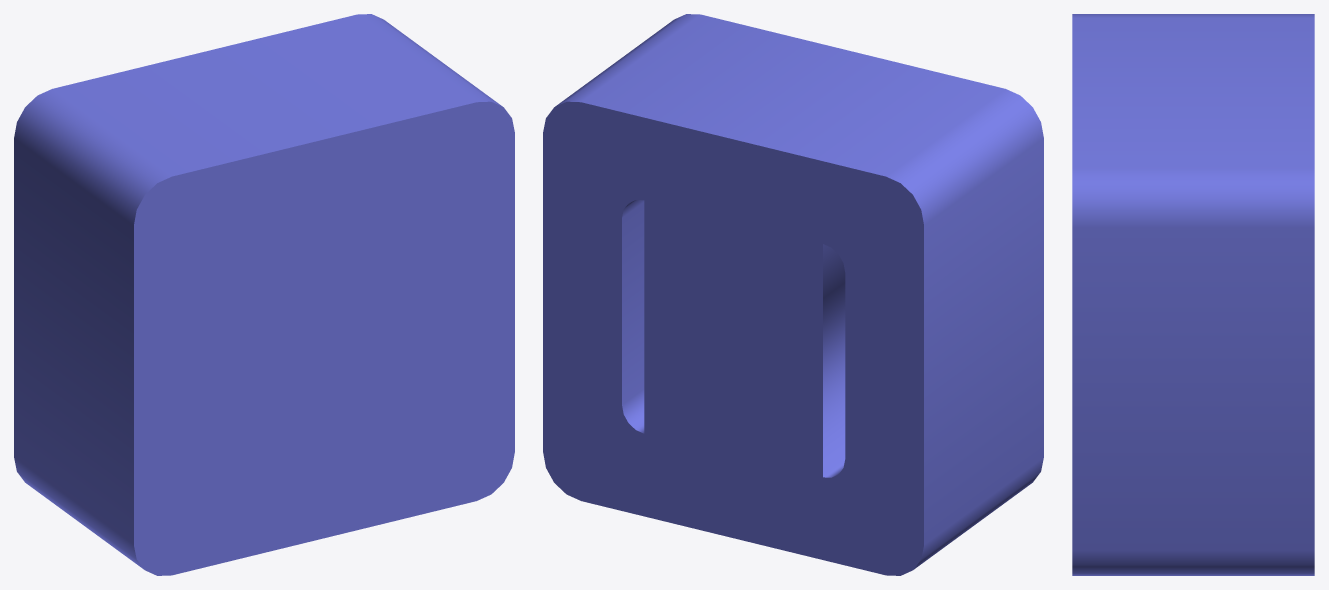
Rendered from TurretTallBase.fbx.
3 views of the same model, side by side, from view 1: azimuth 30°, elevation 25°; view 2: azimuth 150°, elevation 25°; view 3: azimuth 270°, elevation 25° (orthographic).
Parts seen in each view (by area): view 1: TurretBase; view 2: TurretBase; view 3: TurretBase.
Part boxes in pixels (left/top/right/bottom): TurretBase: left=14, top=14, right=514, bottom=575; TurretBase: left=543, top=14, right=1043, bottom=575; TurretBase: left=1072, top=14, right=1314, bottom=575.
Bounding box in the file's own units: 180 × 180 × 98.
